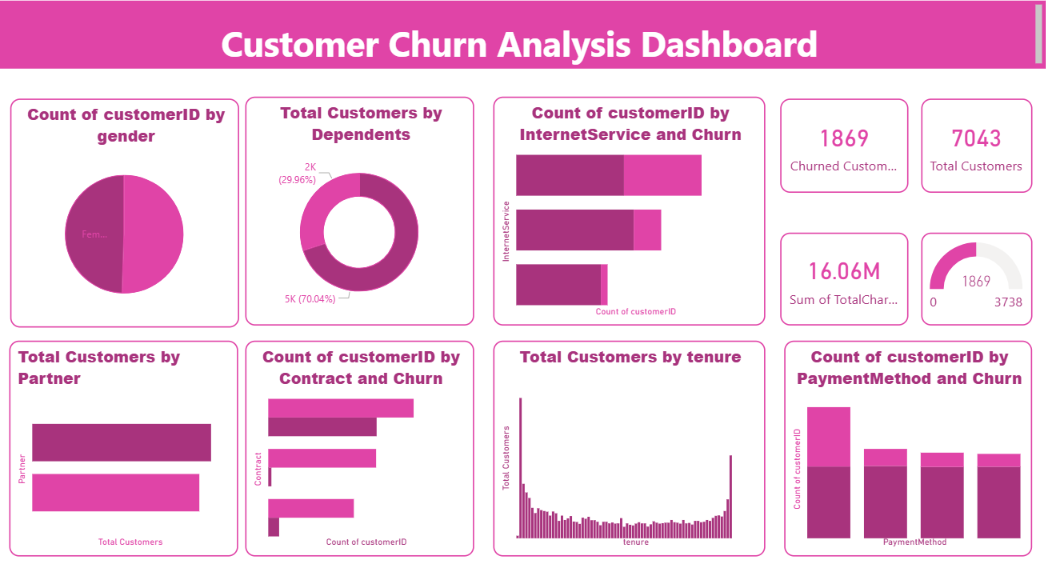

What the dashboard file says about the page in this screenshot:
{"tool":"powerbi","page":{"name":"Page 1","canvas":[1280,720],"ordinal":0},"visuals":[{"type":"pieChart","fields":{"Category":["Telco_Customer_Churn_Dataset  (2).gender"],"Y":["CountNonNull(Telco_Customer_Churn_Dataset  (2).customerID)"]},"box":[13.5,148,280,280],"z":1},{"type":"clusteredBarChart","fields":{"Category":["Telco_Customer_Churn_Dataset  (2).Partner"],"Y":["Telco_Customer_Churn_Dataset  (2).Total Customers"]},"box":[12.2,443.9,280,264.1],"z":2},{"type":"donutChart","fields":{"Category":["Telco_Customer_Churn_Dataset  (2).Dependents"],"Y":["Telco_Customer_Churn_Dataset  (2).Total Customers"]},"box":[300.8,145.5,280,280],"z":3},{"type":"clusteredColumnChart","fields":{"Category":["Telco_Customer_Churn_Dataset  (2).tenure"],"Y":["Telco_Customer_Churn_Dataset  (2).Total Customers"]},"box":[604.1,443.9,332.6,264.1],"z":4},{"type":"clusteredBarChart","fields":{"Category":["Telco_Customer_Churn_Dataset  (2).Contract"],"Y":["CountNonNull(Telco_Customer_Churn_Dataset  (2).customerID)"],"Series":["Telco_Customer_Churn_Dataset  (2).Churn"]},"box":[300.8,443.9,280,264.1],"z":5},{"type":"columnChart","fields":{"Category":["Telco_Customer_Churn_Dataset  (2).PaymentMethod"],"Y":["CountNonNull(Telco_Customer_Churn_Dataset  (2).customerID)"],"Series":["Telco_Customer_Churn_Dataset  (2).Churn"]},"box":[959.9,443.9,303.3,264.1],"z":6},{"type":"barChart","fields":{"Category":["Telco_Customer_Churn_Dataset  (2).InternetService"],"Y":["CountNonNull(Telco_Customer_Churn_Dataset  (2).customerID)"],"Series":["Telco_Customer_Churn_Dataset  (2).Churn"]},"box":[604.1,145.5,332.6,280],"z":7},{"type":"textbox","box":[0,28.1,1280.3,83.2],"z":8},{"type":"card","fields":{"Values":["Telco_Customer_Churn_Dataset  (2).Churned Customers"]},"box":[955,148,156.5,114.9],"z":9},{"type":"card","fields":{"Values":["Telco_Customer_Churn_Dataset  (2).Total Customers"]},"box":[1127.5,148,135.7,114.9],"z":10},{"type":"card","fields":{"Values":["Sum(Telco_Customer_Churn_Dataset  (2).TotalCharges)"]},"box":[955,311.8,156.5,113.7],"z":11},{"type":"gauge","fields":{"Y":["Telco_Customer_Churn_Dataset  (2).Churned Customers"]},"box":[1127.5,311.8,135.7,113.7],"z":12}]}

Visuals, with their boxes in screenshot pixels (x1, y1, x2, y2):
pieChart - Telco_Customer_Churn_Dataset  (2).gender x CountNonNull(Telco_Customer_Churn_Dataset  (2).customerID): [3,95,234,326]
clusteredBarChart - Telco_Customer_Churn_Dataset  (2).Partner x Telco_Customer_Churn_Dataset  (2).Total Customers: [2,339,233,558]
donutChart - Telco_Customer_Churn_Dataset  (2).Dependents x Telco_Customer_Churn_Dataset  (2).Total Customers: [240,93,472,324]
clusteredColumnChart - Telco_Customer_Churn_Dataset  (2).tenure x Telco_Customer_Churn_Dataset  (2).Total Customers: [491,339,766,558]
clusteredBarChart - Telco_Customer_Churn_Dataset  (2).Contract x CountNonNull(Telco_Customer_Churn_Dataset  (2).customerID): [240,339,472,558]
columnChart - Telco_Customer_Churn_Dataset  (2).PaymentMethod x CountNonNull(Telco_Customer_Churn_Dataset  (2).customerID): [785,339,1035,558]
barChart - Telco_Customer_Churn_Dataset  (2).InternetService x CountNonNull(Telco_Customer_Churn_Dataset  (2).customerID): [491,93,766,324]
textbox: [0,0,1045,65]
card - Telco_Customer_Churn_Dataset  (2).Churned Customers: [781,95,910,190]
card - Telco_Customer_Churn_Dataset  (2).Total Customers: [923,95,1035,190]
card - Sum(Telco_Customer_Churn_Dataset  (2).TotalCharges): [781,230,910,324]
gauge - Telco_Customer_Churn_Dataset  (2).Churned Customers: [923,230,1035,324]
